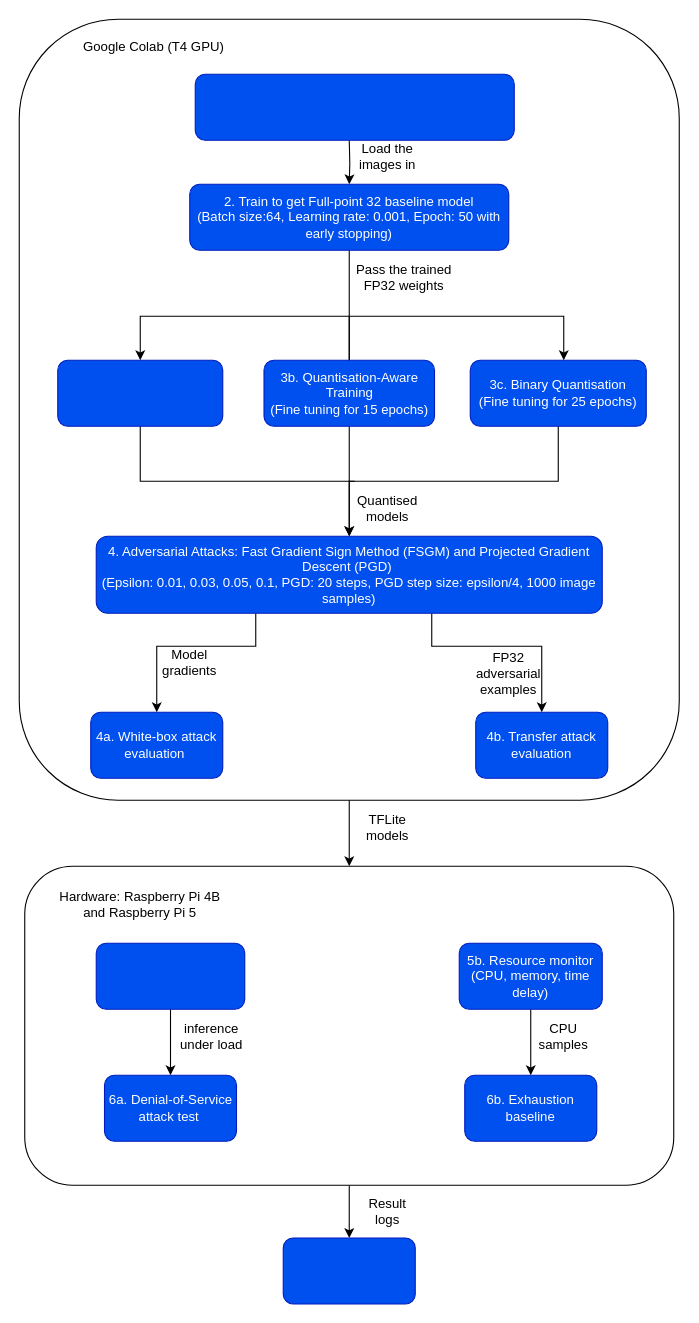
Image size: 699x1323. Some labels were removed from this diagram. Each missing label, with the centre of its shape:
"1. Dataset: CIFAR-10 50k train set/ 10k test set/ random seed = 42" goes at (x=354, y=106).
"3a. Post Training Quantisation (300 calibration images)" goes at (x=140, y=392).
"5a. TFLite inference (all 4 variants)" goes at (x=170, y=975).
"7. Result Analysis" goes at (x=348, y=1270).
